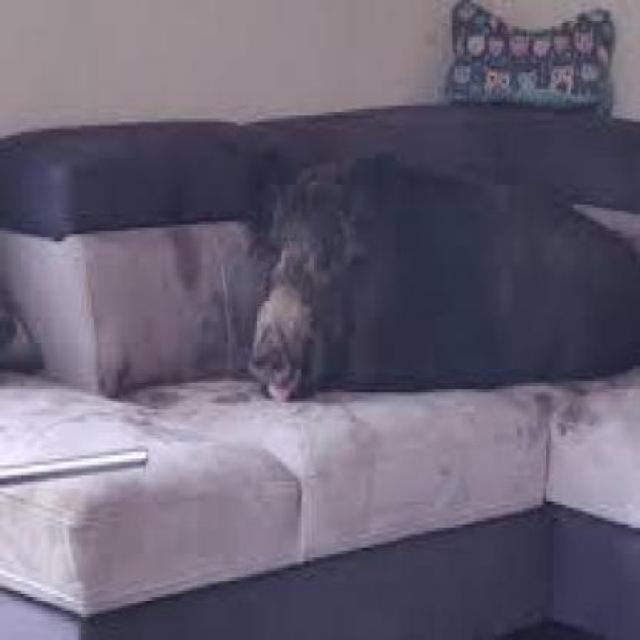wildboar: (224, 137, 640, 419)
